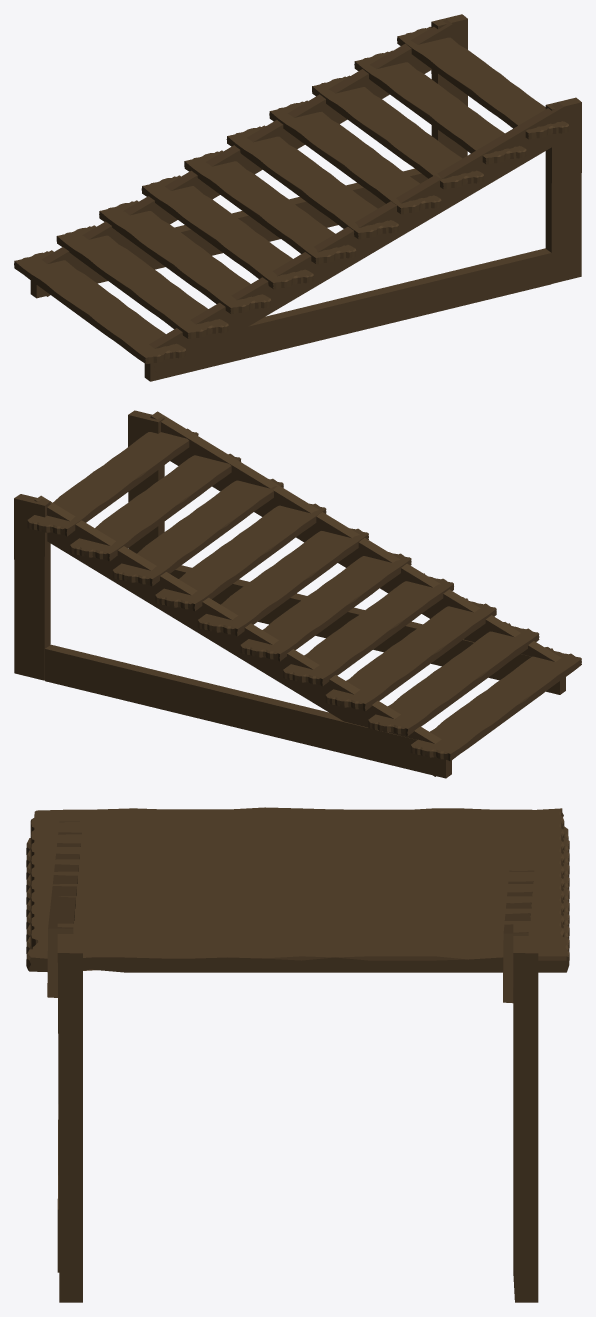
File: stairs.fbx
3 renders of one model, top to bottom at view 1: azimuth 30°, elevation 25°; view 2: azimuth 150°, elevation 25°; view 3: azimuth 270°, elevation 25°, orthographic. The views are drawn at different scales.
Visible parts, largest first — view 1: Cube.001, Cube.003, Cube.002, Cube.004; view 2: Cube.001, Cube.002, Cube.003, Cube.004; view 3: Cube.001, Cube.004, Cube.003.
Boxes of the visible parts, x1=… form: Cube.001: x1=14, y1=26, x2=568, y2=363; Cube.003: x1=41, y1=19, x2=573, y2=379; Cube.002: x1=30, y1=168, x2=551, y2=381; Cube.004: x1=431, y1=14, x2=581, y2=283; Cube.001: x1=27, y1=428, x2=581, y2=761; Cube.002: x1=45, y1=565, x2=565, y2=778; Cube.003: x1=34, y1=411, x2=561, y2=776; Cube.004: x1=14, y1=410, x2=164, y2=680; Cube.001: x1=26, y1=807, x2=569, y2=972; Cube.004: x1=57, y1=923, x2=538, y2=1302; Cube.003: x1=47, y1=821, x2=534, y2=1003.
Size of the model in its own units: 571 by 220 by 304.
